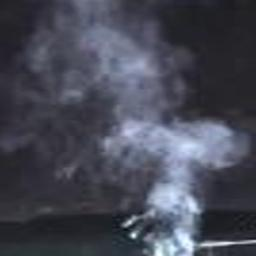smoke: (0, 0, 250, 255)
